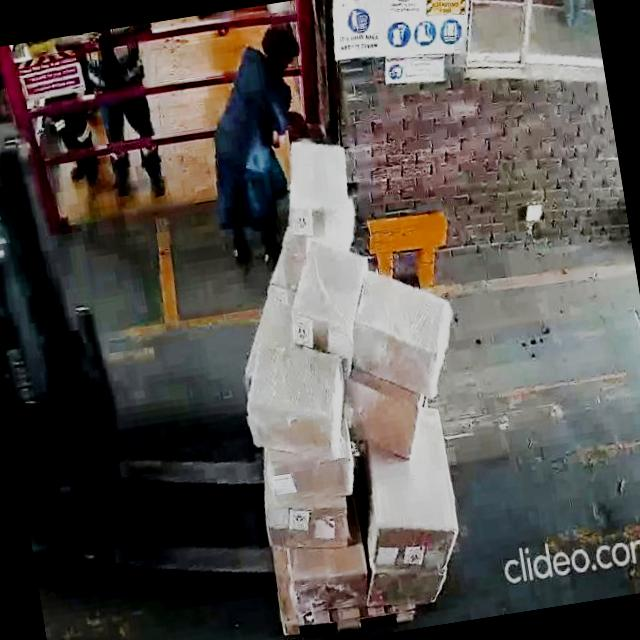Box: (235, 332, 352, 474), (348, 271, 458, 394), (364, 444, 464, 576), (281, 229, 359, 347), (341, 363, 425, 467), (277, 130, 357, 238), (288, 539, 376, 621), (263, 489, 356, 564), (264, 442, 359, 507), (367, 560, 451, 615)
